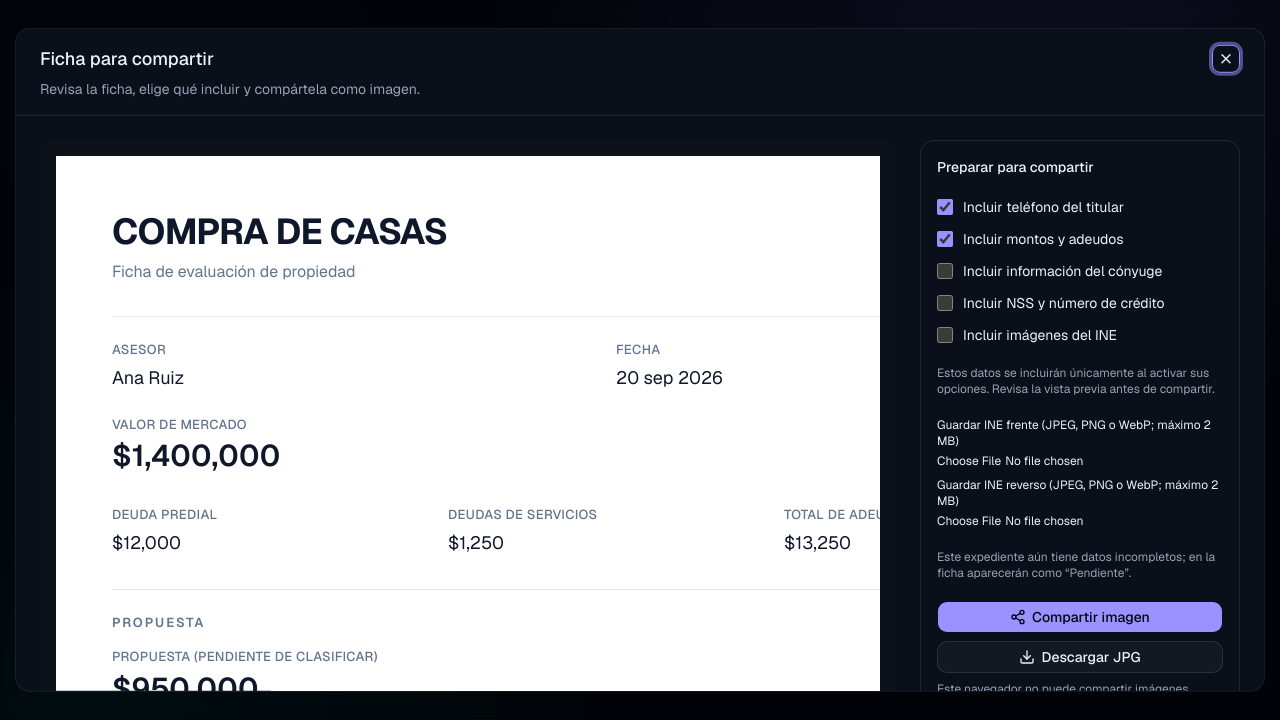
Scenario: RenovaShareDialog — the card and its options › the toggles change what the card shows
The width and height of the screenshot is (1280, 720).
Click the checkbox labelled "Incluir teléfono del titular" at (945, 207), box [937, 199, 953, 215]
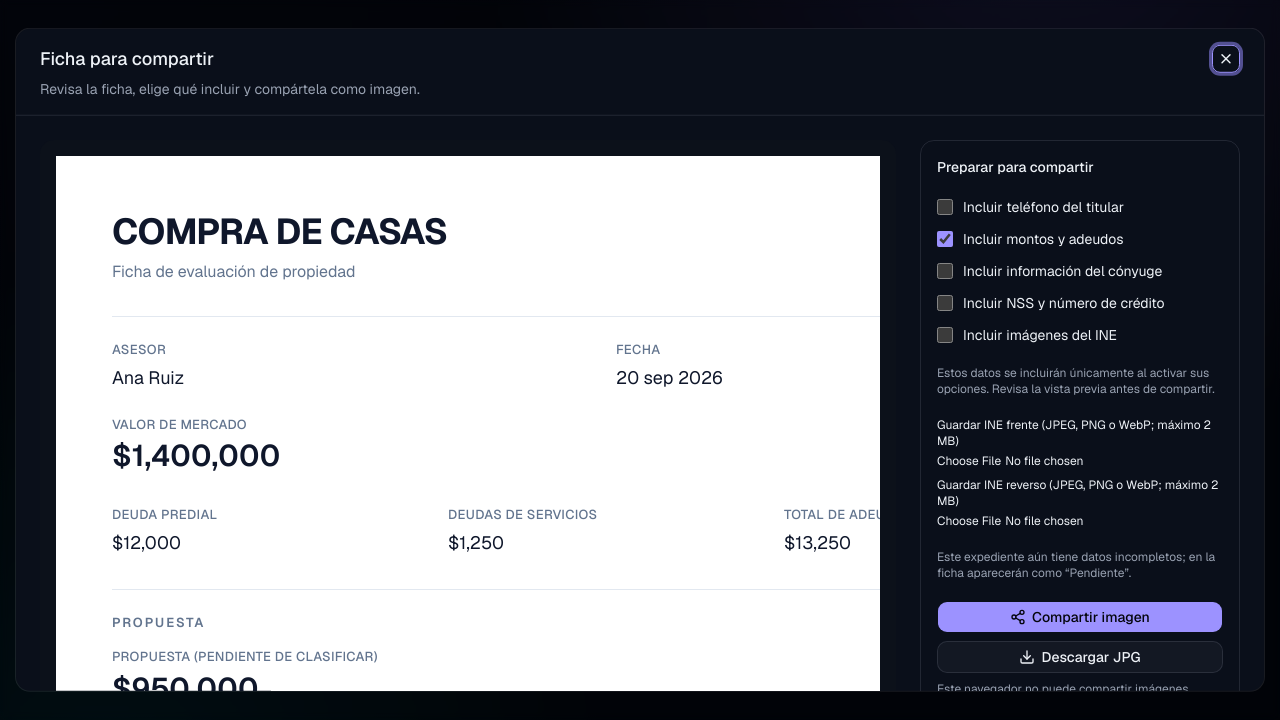
Click the checkbox labelled "Incluir información del cónyuge" at (945, 271), box [937, 263, 953, 279]
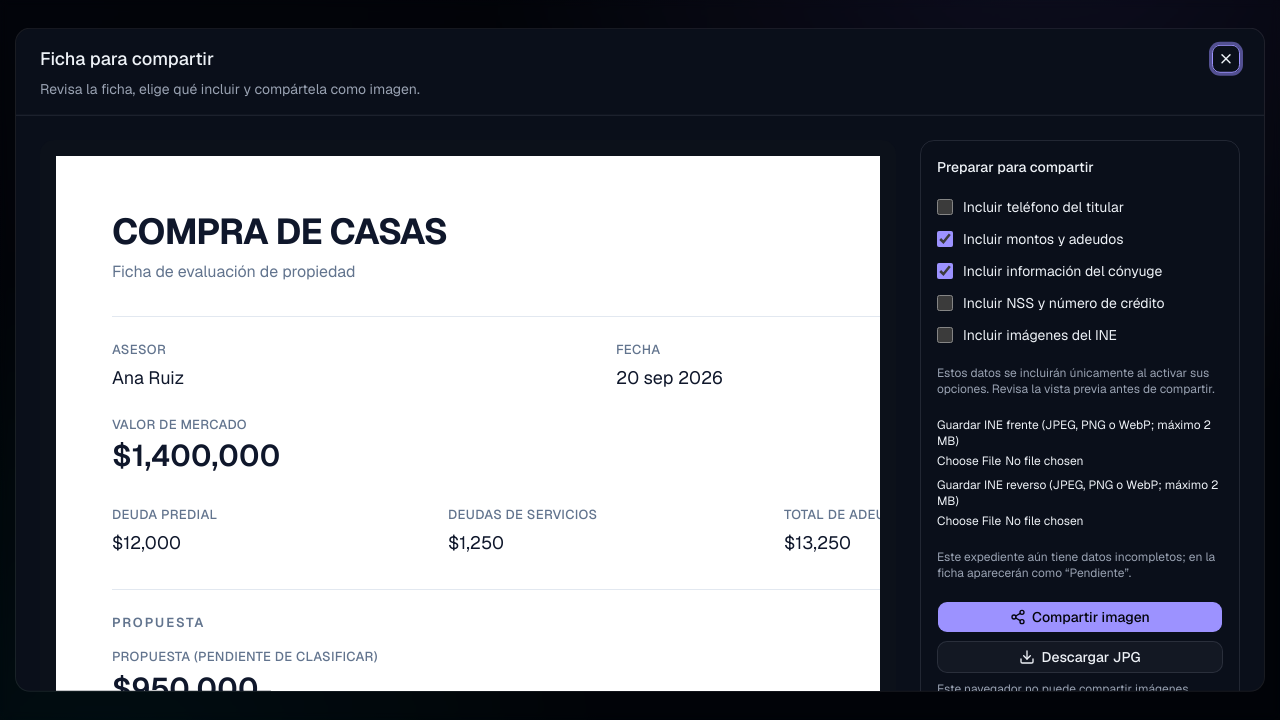
Click the checkbox labelled "Incluir montos y adeudos" at (945, 239), box [937, 231, 953, 247]
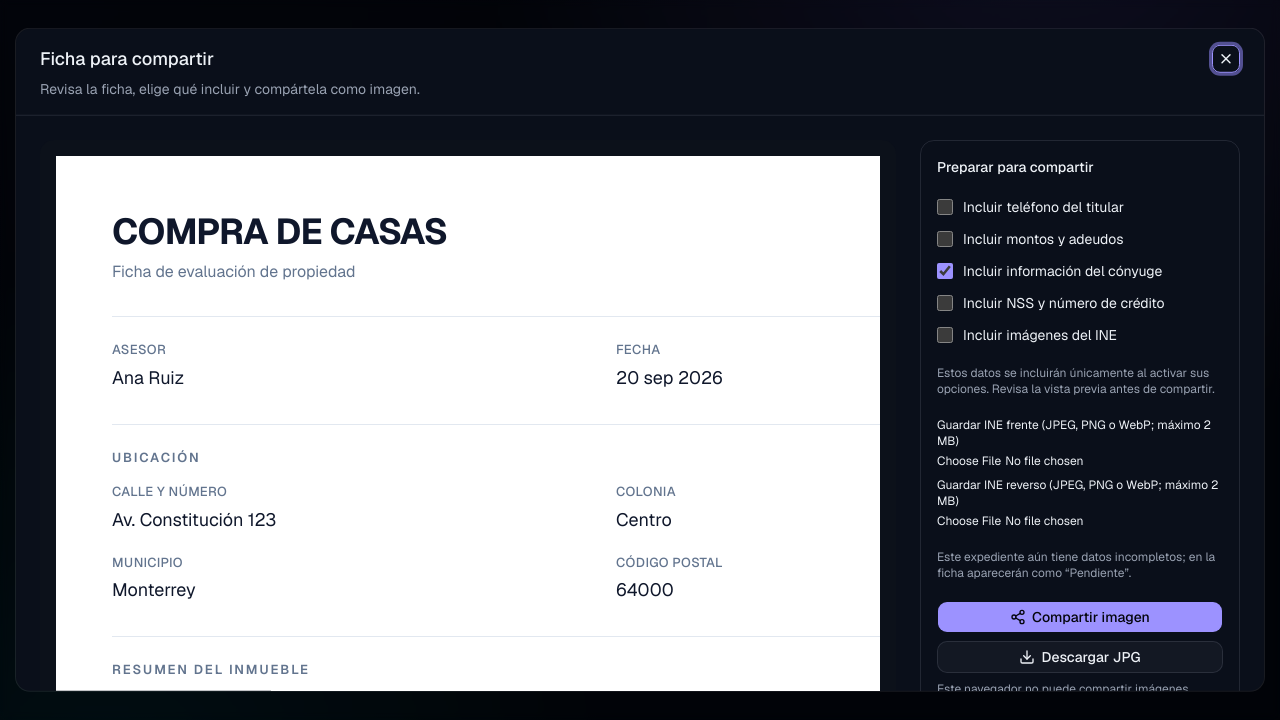
Check: the text with test id "renova-share-card" no longer shows "$"
